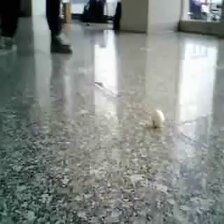w: (150, 109, 165, 128)
